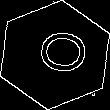O_W: (25, 31, 85, 79)
